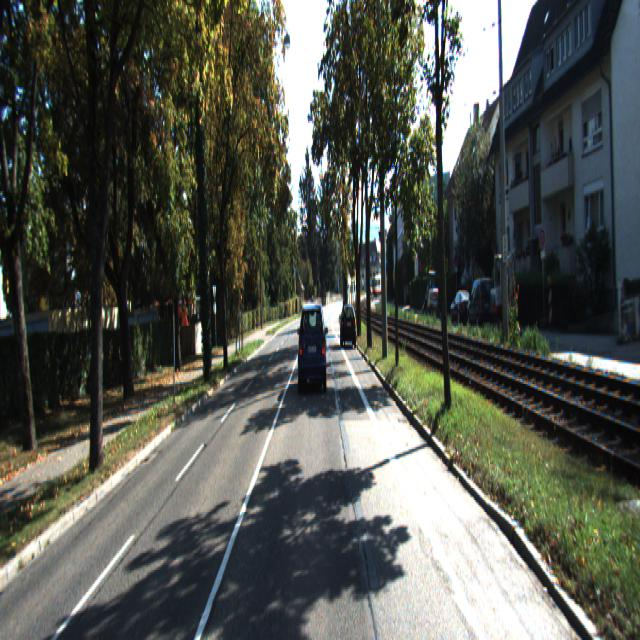Car: (298, 300, 328, 396), (489, 250, 512, 329), (467, 274, 495, 328), (450, 289, 475, 327), (340, 302, 357, 348), (427, 269, 438, 313)
